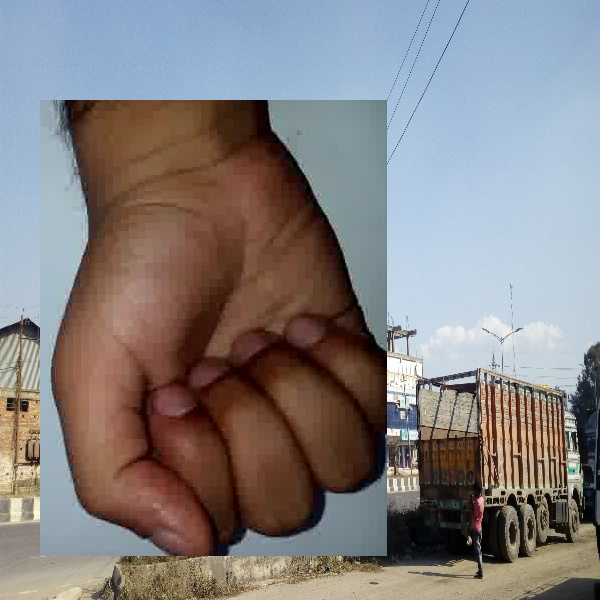A: (40, 100, 387, 556)
